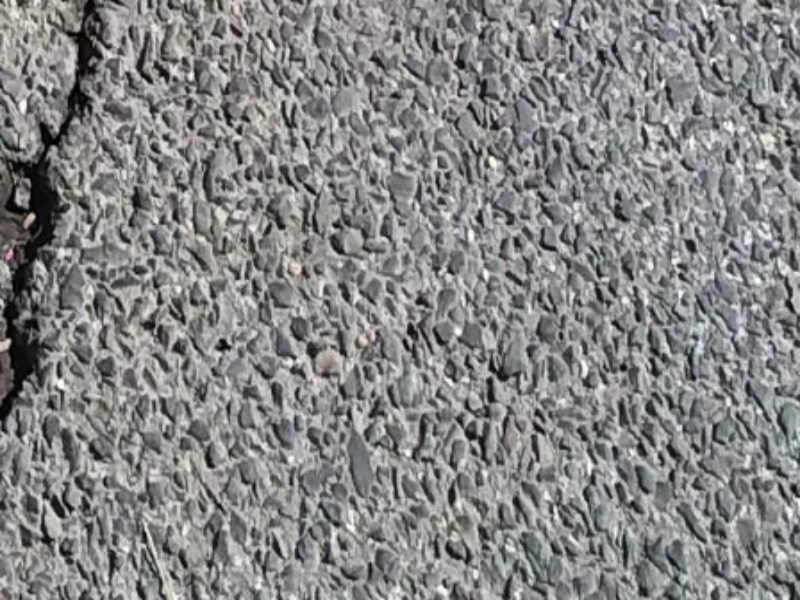crack: (5, 10, 99, 430)
